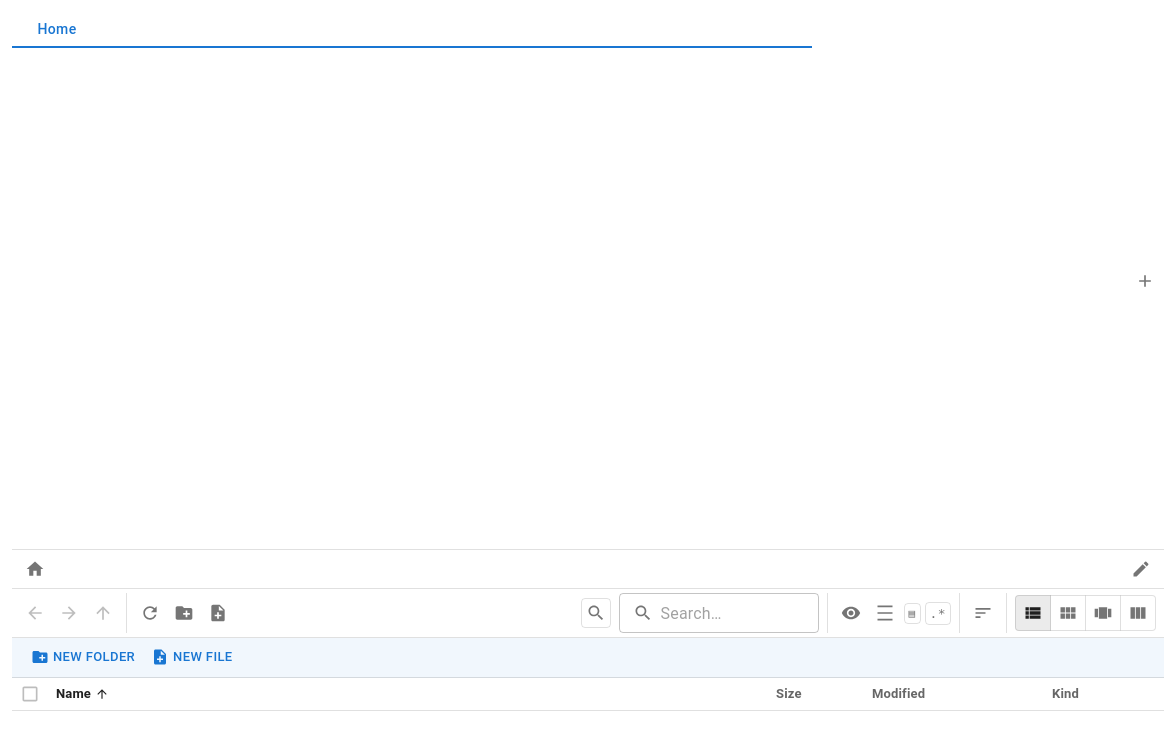
Scenario: BrowserTabs › closes a tab via the close icon
Click the button named "New tab" at (1145, 280), box [1130, 266, 1160, 296]
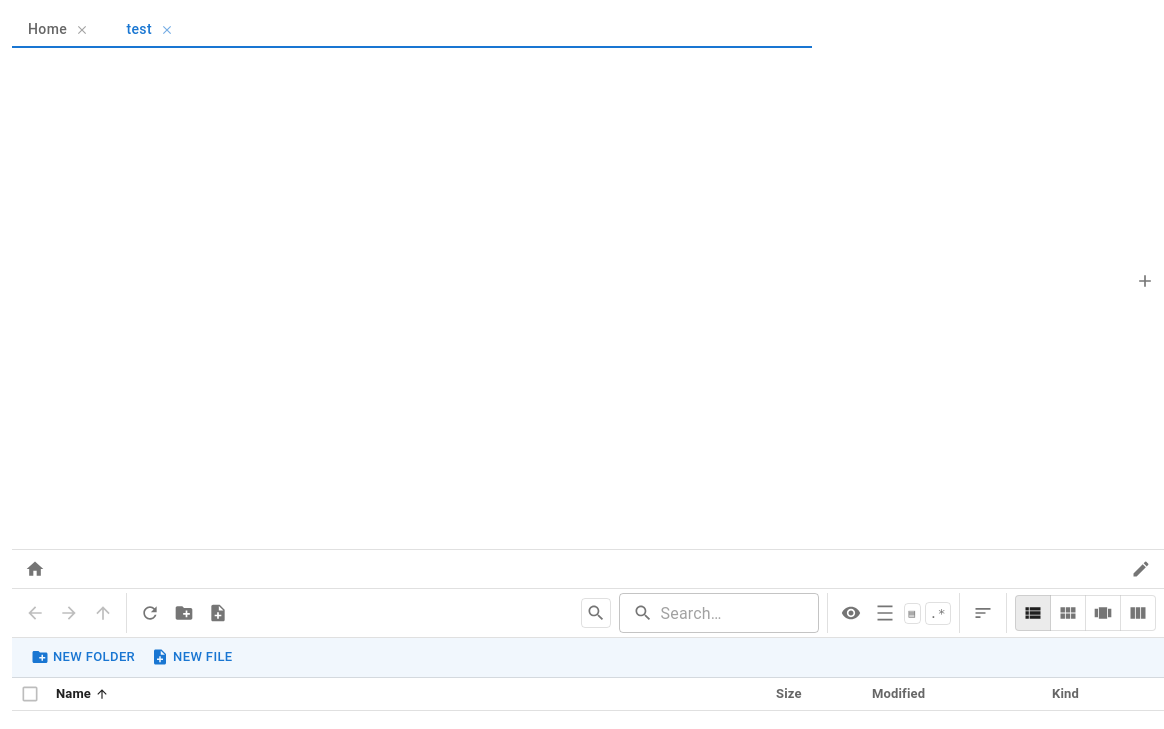
Expected: the number of tabs is 2, [12, 12, 105, 48]; [105, 12, 195, 48]
Note: The close icon on the first tab.
Click the button named "Close tab" at (82, 30), box [75, 23, 89, 37]
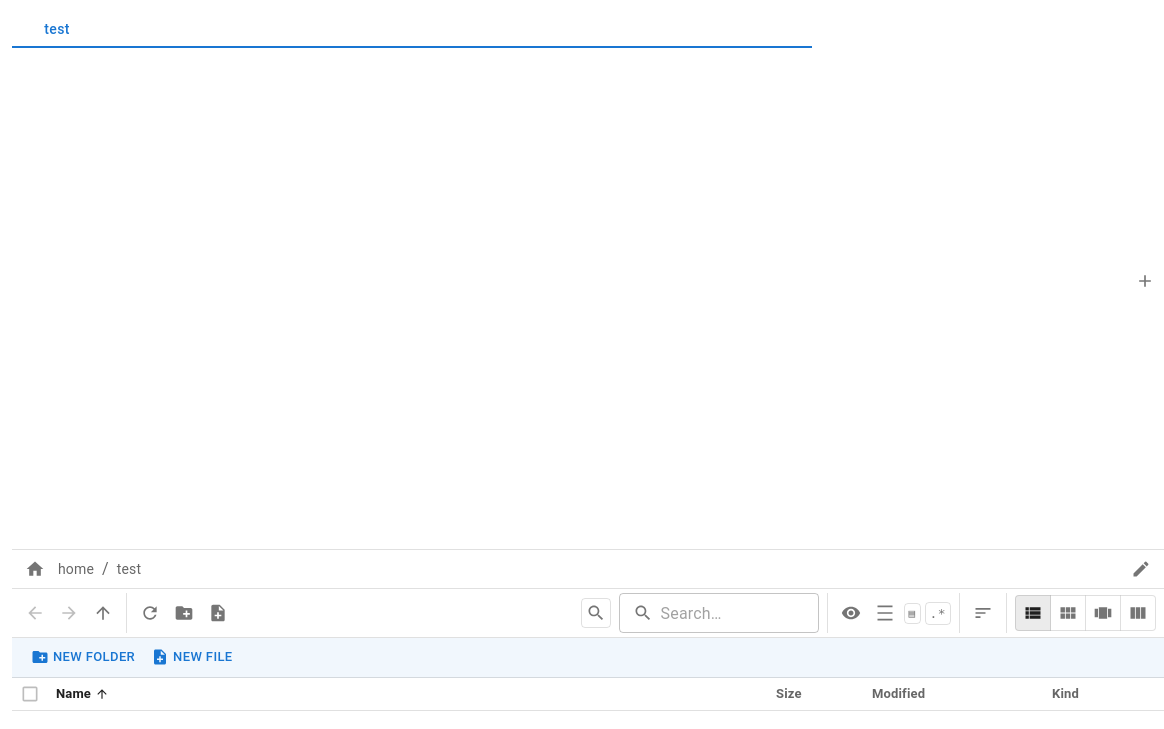
Expected: the number of tabs is 1, [12, 12, 102, 48]
